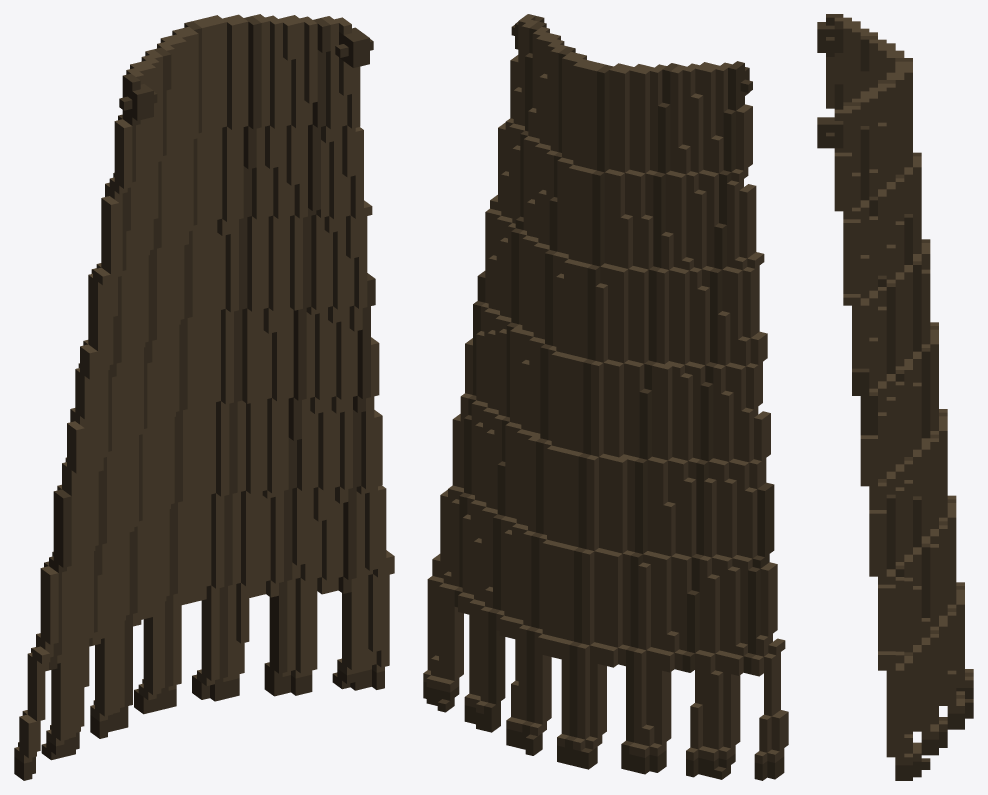
The model's file is chain_uncommon_cloak.glb.
3 views of the same model, side by side, from view 1: azimuth 30°, elevation 25°; view 2: azimuth 150°, elevation 25°; view 3: azimuth 270°, elevation 25° (orthographic). The views are drawn at different scales.
Parts seen in each view (by area): view 1: chain_uncommon_cloak; view 2: chain_uncommon_cloak; view 3: chain_uncommon_cloak.
Boxes of the visible parts, <box> form: chain_uncommon_cloak: <box>14,14,394,780</box>; chain_uncommon_cloak: <box>423,14,788,780</box>; chain_uncommon_cloak: <box>817,14,973,780</box>.
Bounding box in the file's own units: 0.528 × 0.972 × 0.216.
